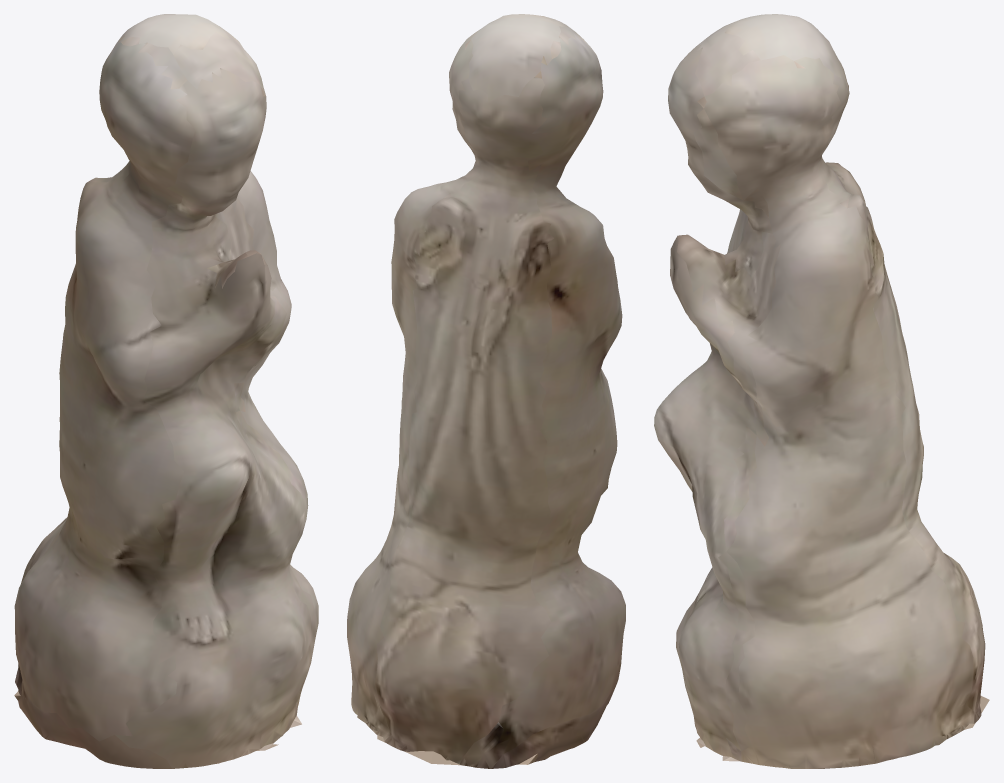
Rendered from t_angel_reza.glb.
3 renders of one model, left to right at view 1: azimuth 30°, elevation 25°; view 2: azimuth 150°, elevation 25°; view 3: azimuth 270°, elevation 25°, orthographic. The views are drawn at different scales.
Visible parts, largest first — view 1: Object_2; view 2: Object_2; view 3: Object_2.
Part boxes in pixels (bbox=[...]): Object_2: bbox=[14, 14, 318, 768]; Object_2: bbox=[347, 14, 625, 768]; Object_2: bbox=[654, 14, 989, 768].
Size of the model in its own units: 0.4427 by 1.2 by 0.5232.
1 material, 1 textured.
